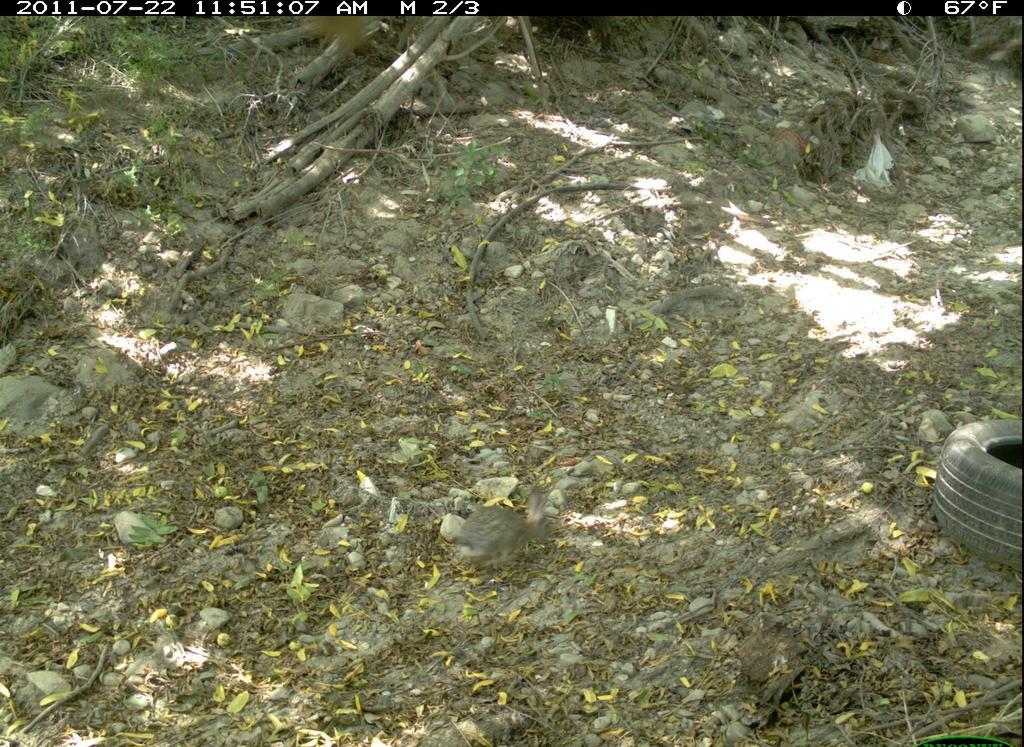rabbit: (447, 479, 564, 570)
